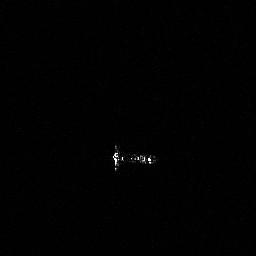ship: (109, 141, 160, 175)
